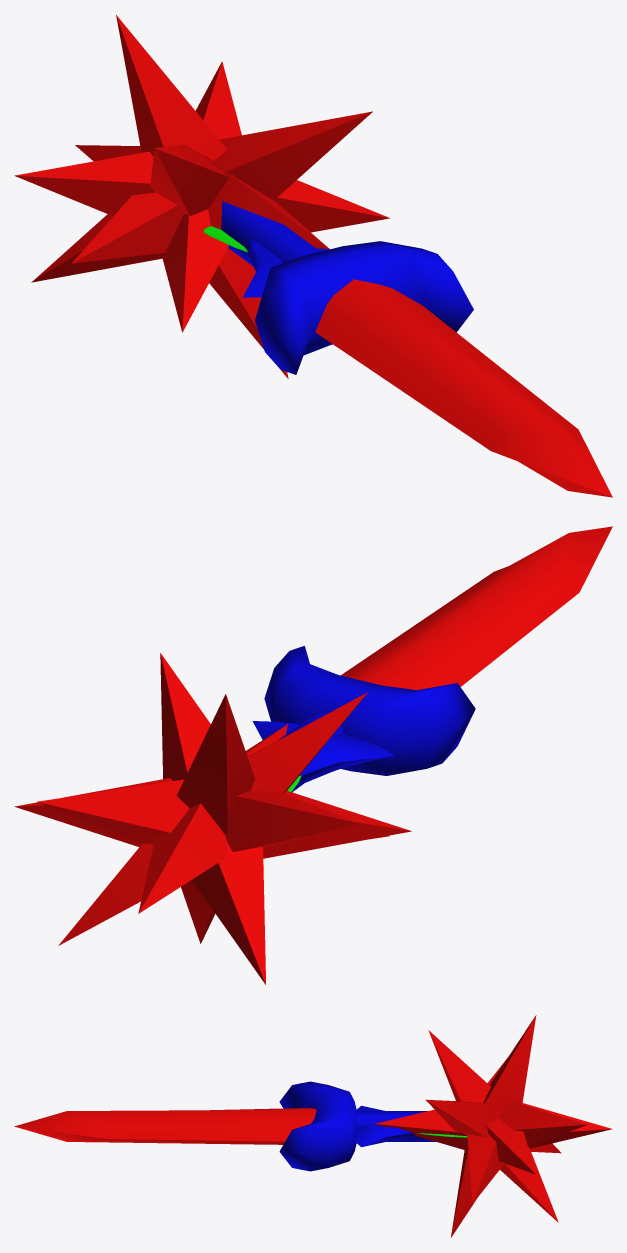
The model's file is ClassProjectiles.fbx.
The picture shows the model from 3 angles, top to bottom: view 1: azimuth 30°, elevation 25°; view 2: azimuth 150°, elevation 25°; view 3: azimuth 270°, elevation 25°; orthographic projection. The views are drawn at different scales.
Parts seen in each view (by area): view 1: WizardProjectile, WarriorProjectile, ValkyreProjectile; view 2: WizardProjectile, WarriorProjectile, ValkyreProjectile; view 3: WizardProjectile, WarriorProjectile, ValkyreProjectile.
Boxes of the visible parts, x1=… form: WizardProjectile: x1=14, y1=15, x2=389, y2=378; WarriorProjectile: x1=221, y1=201, x2=612, y2=497; ValkyreProjectile: x1=243, y1=238, x2=329, y2=297; WizardProjectile: x1=14, y1=653, x2=411, y2=984; WarriorProjectile: x1=264, y1=526, x2=612, y2=792; ValkyreProjectile: x1=252, y1=721, x2=393, y2=785; WizardProjectile: x1=374, y1=1015, x2=612, y2=1237; WarriorProjectile: x1=14, y1=1081, x2=435, y2=1171; ValkyreProjectile: x1=355, y1=1105, x2=416, y2=1147.
Size of the model in its own units: 1.01 by 0.9552 by 2.64.
